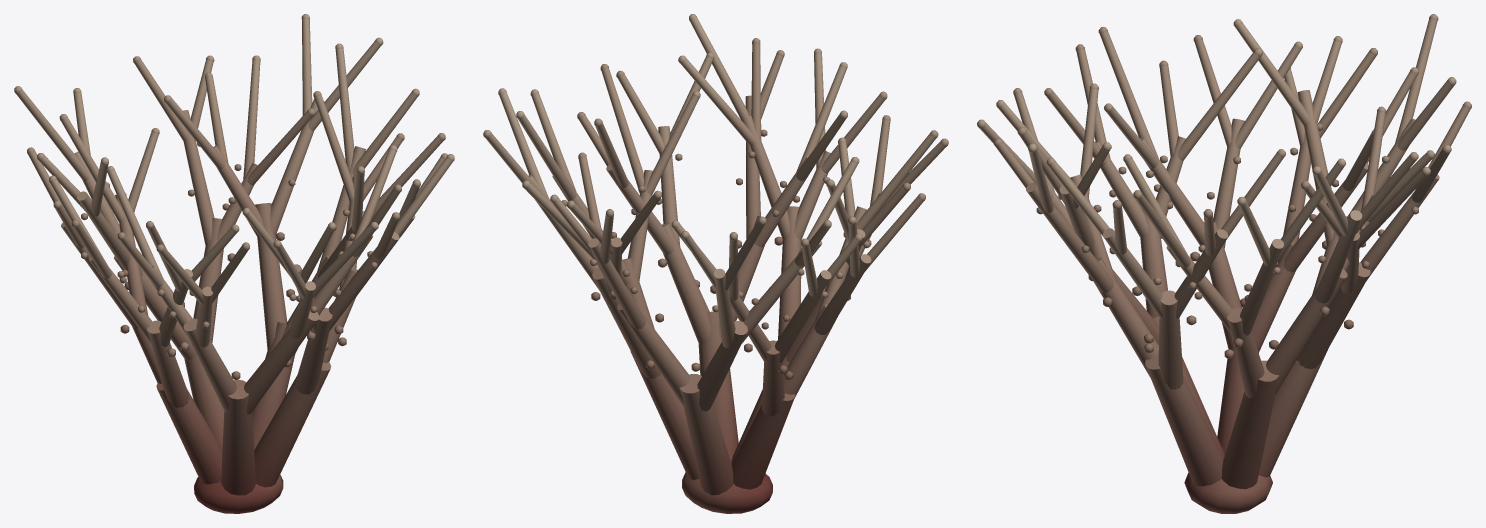
The model's file is coral_staghorn.glb.
3 views of the same model, side by side, from view 1: azimuth 30°, elevation 25°; view 2: azimuth 150°, elevation 25°; view 3: azimuth 270°, elevation 25° (orthographic). The views are drawn at different scales.
Parts seen in each view (by area): view 1: Pelagic.coral_staghorn.Surface; view 2: Pelagic.coral_staghorn.Surface; view 3: Pelagic.coral_staghorn.Surface.
Part boxes in pixels (x1,y1,x2,y2): Pelagic.coral_staghorn.Surface: [14, 14, 454, 513]; Pelagic.coral_staghorn.Surface: [483, 14, 948, 513]; Pelagic.coral_staghorn.Surface: [977, 14, 1471, 513].
Bounding box in the file's own units: 0.8455 × 0.872 × 0.8972.
